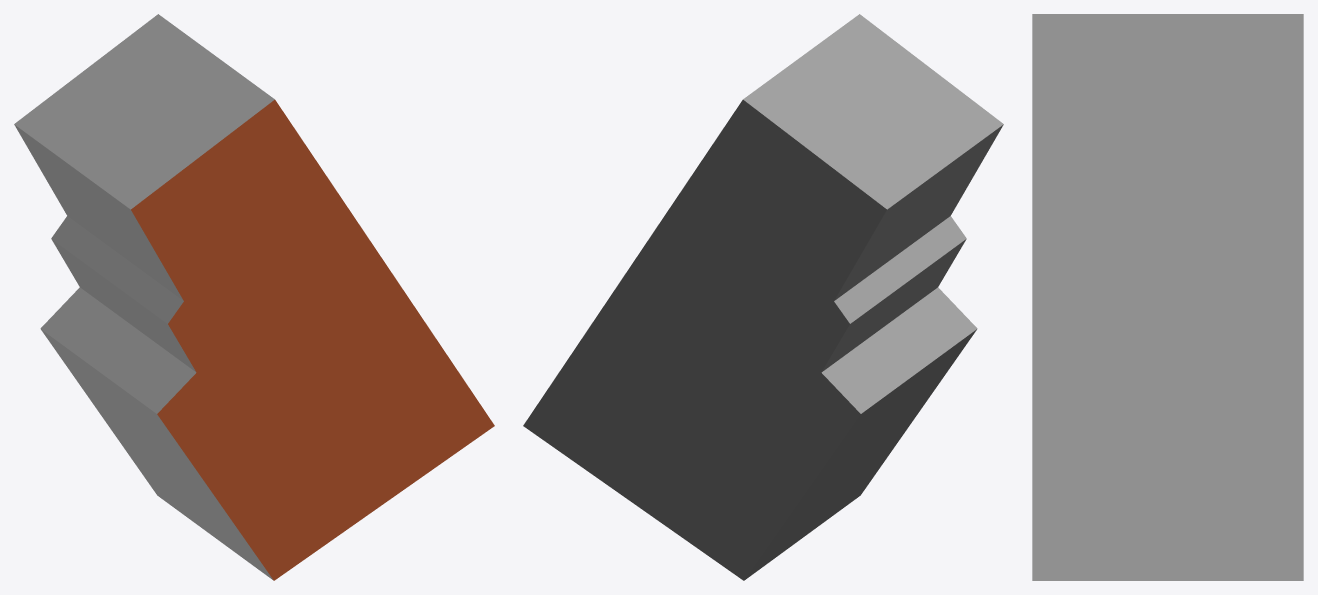
Rendered from construction_1616_assumed_A_Casa_h6m.obj.
3 renders of one model, left to right at view 1: azimuth 30°, elevation 25°; view 2: azimuth 150°, elevation 25°; view 3: azimuth 270°, elevation 25°, orthographic. The views are drawn at different scales.
Visible parts, largest first — view 1: construction_1616_assumed_A_Casa; view 2: construction_1616_assumed_A_Casa; view 3: construction_1616_assumed_A_Casa.
Part boxes in pixels (left/top/right/bottom): construction_1616_assumed_A_Casa: left=14, top=14, right=494, bottom=580; construction_1616_assumed_A_Casa: left=523, top=14, right=1003, bottom=580; construction_1616_assumed_A_Casa: left=1032, top=14, right=1303, bottom=580.
Bounding box in the file's own units: 10.81 × 13.65 × 6.
